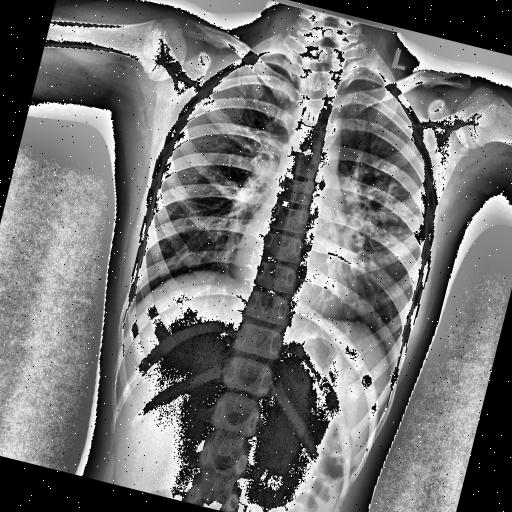4- Consolidation: (311, 162, 434, 298)
6- Infiltration: (320, 170, 430, 306), (324, 156, 434, 290)
7- Lung Opacity: (311, 162, 434, 298), (320, 170, 430, 306)
